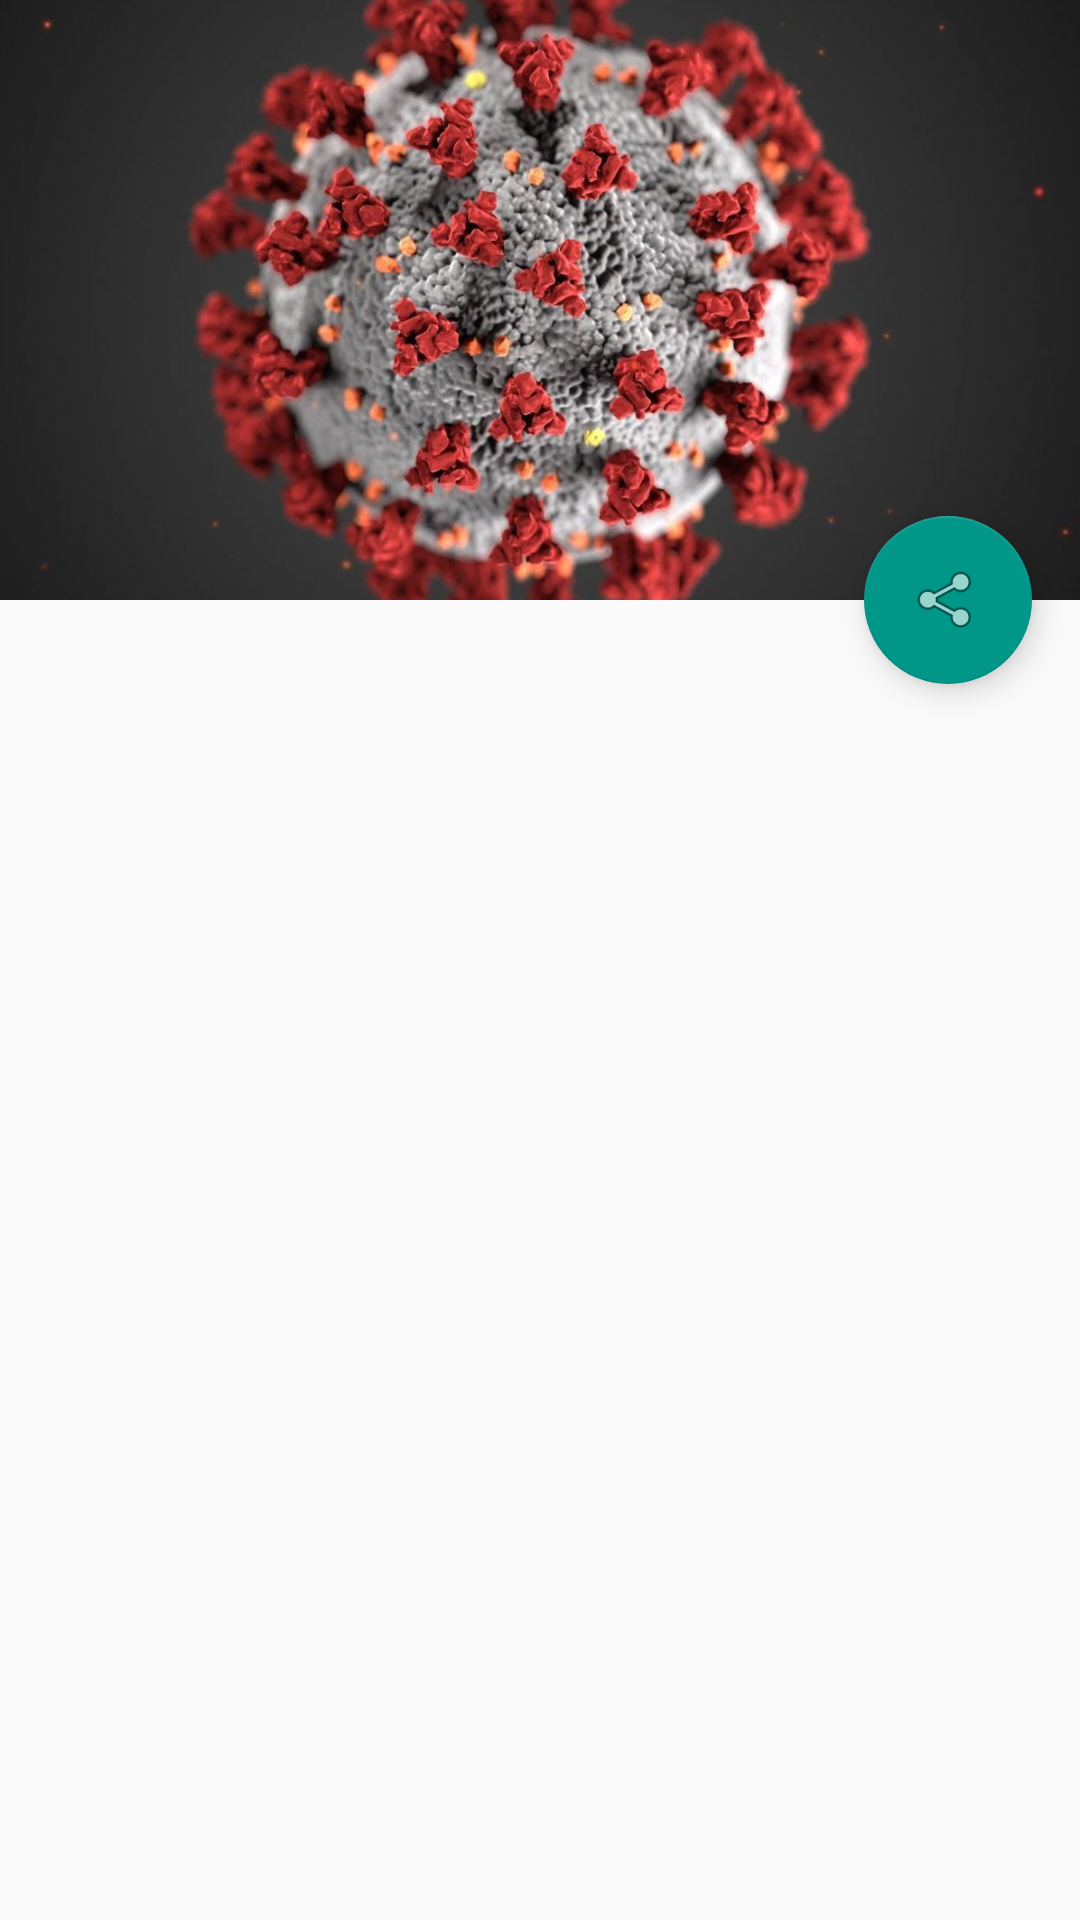

Screen size 1080w x 1920h. Icon name, then its center in pixels as (x,y):
share: (948,600)
